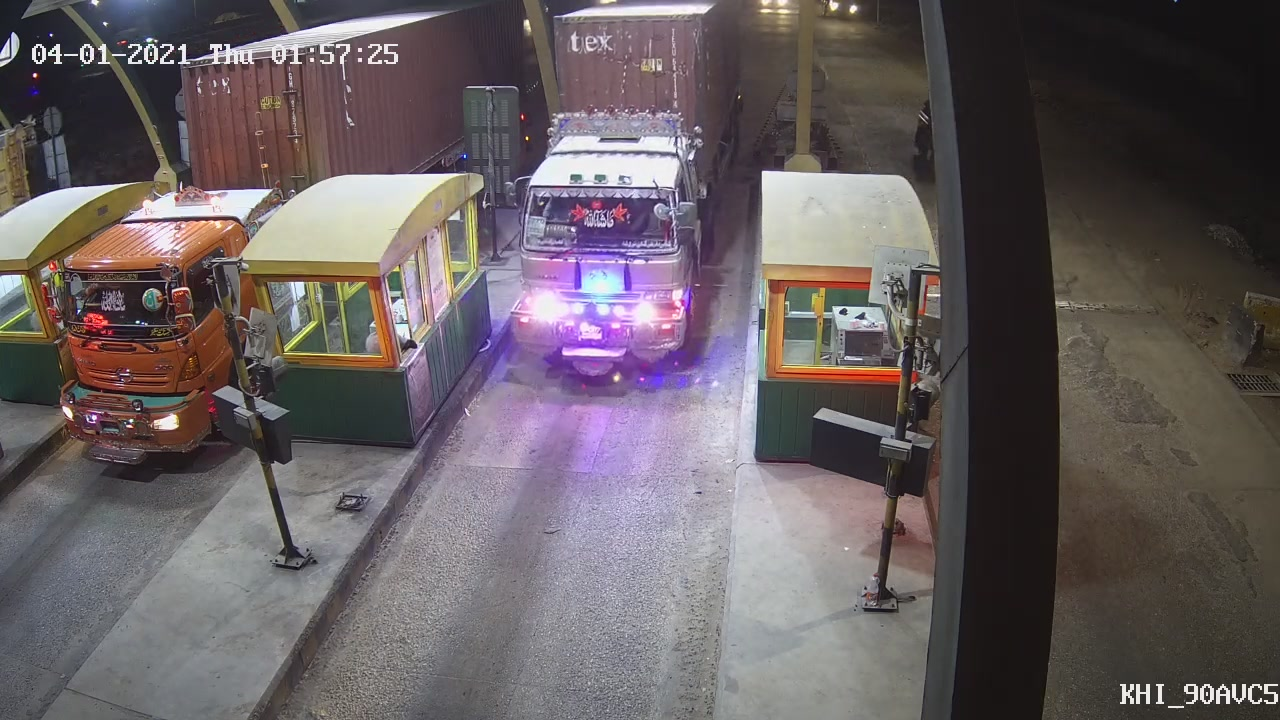F5: (512, 10, 730, 393)
